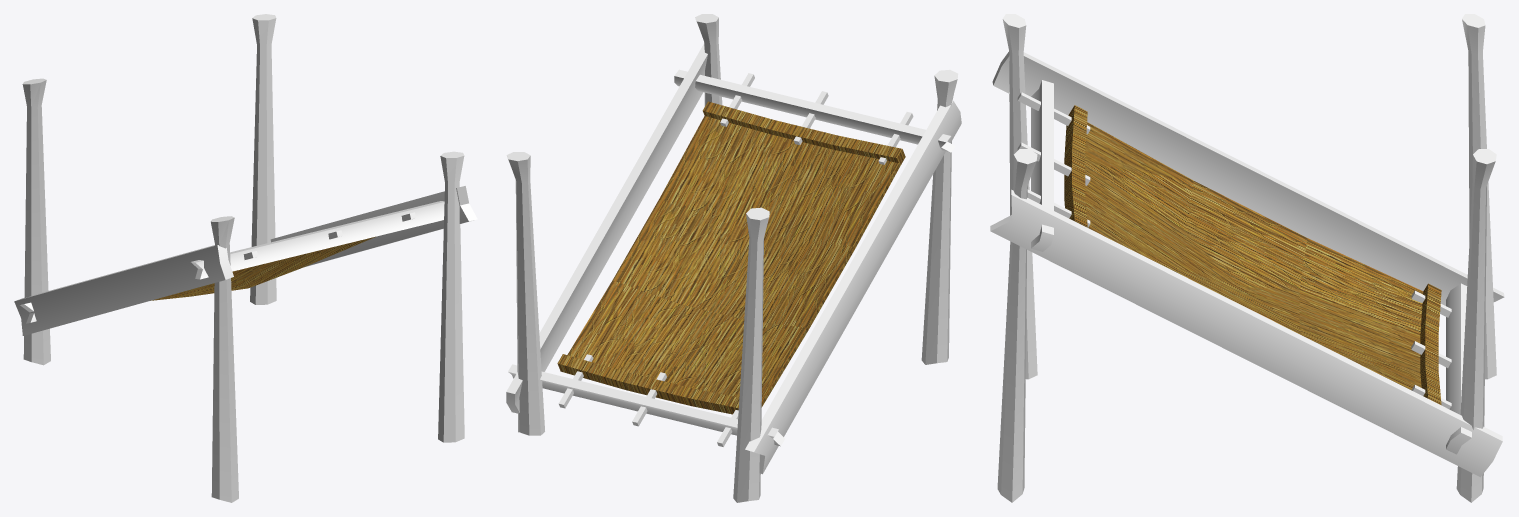
Rendered from p2_platform_trampoline_angle.fbx.
3 views of the same model, side by side, from view 1: azimuth 30°, elevation 25°; view 2: azimuth 150°, elevation 25°; view 3: azimuth 270°, elevation 25° (orthographic). The views are drawn at different scales.
Parts seen in each view (by area): view 1: bridge, shackroof; view 2: shackroof, bridge; view 3: bridge, shackroof.
Part boxes in pixels (<box>): bridge: <box>14,14,477,502</box>; shackroof: <box>150,236,375,300</box>; shackroof: <box>557,101,905,414</box>; bridge: <box>506,14,961,502</box>; bridge: <box>990,14,1504,502</box>; shackroof: <box>1064,105,1441,405</box>.
Size of the model in its own units: 338 by 342 by 452.
